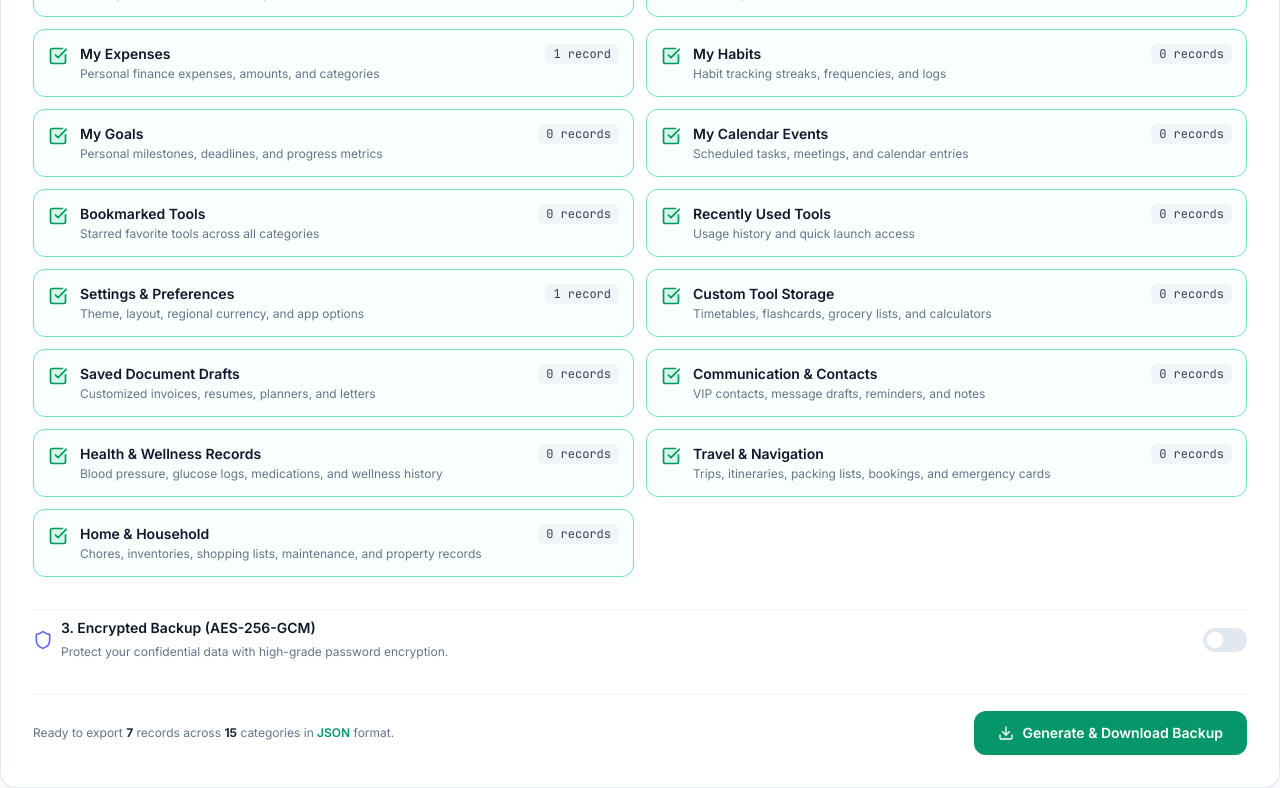
Test: LifeTools — Universal Backup & Restore System › 7. React UI Components & Page Suite › renders CreateBackupCard and toggles encryption inputs
(page scrolled)
Click the switch.
click(1225, 640)  # box [1203,628,1247,652]
(page scrolled)
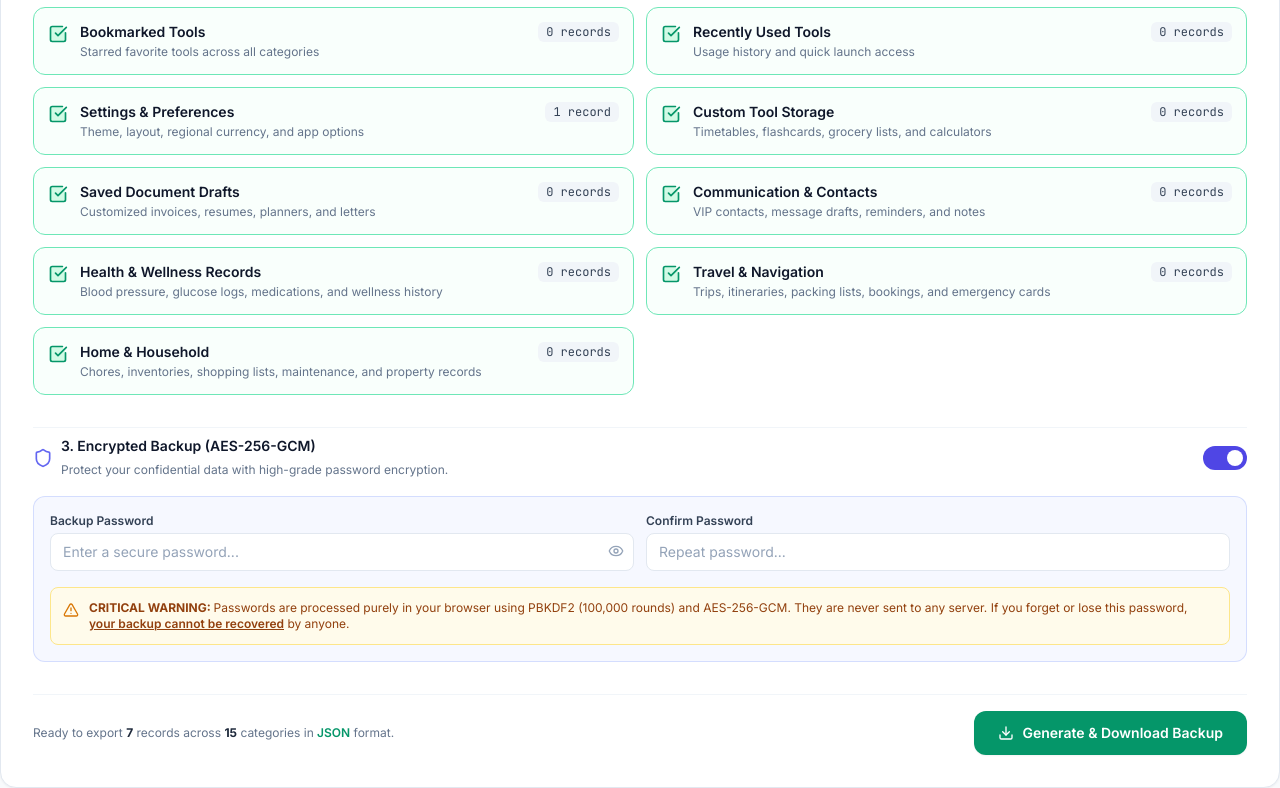
Expected: the password field with placeholder "Enter a secure password..." is shown, [50,533,634,571]
Expected: the text "CRITICAL WARNING:" is shown, [89,600,214,615]
